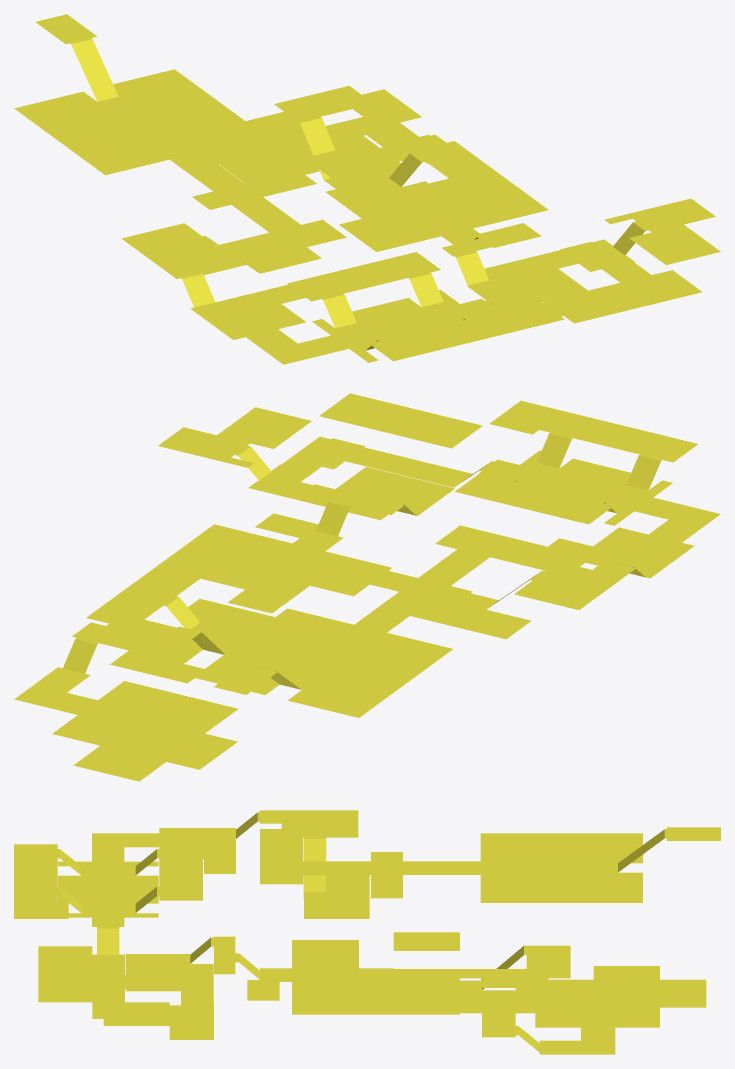
Rendered from 0903_npc_route.fbx.
3 renders of one model, top to bottom at view 1: azimuth 30°, elevation 25°; view 2: azimuth 150°, elevation 25°; view 3: azimuth 270°, elevation 25°, orthographic. The views are drawn at different scales.
Visible parts, largest first — view 1: npc_route; view 2: npc_route; view 3: npc_route.
Boxes of the visible parts, x1,y1,x2,y2 form: npc_route: [14, 14, 720, 364]; npc_route: [14, 393, 720, 781]; npc_route: [14, 810, 720, 1054].
Bounding box in the file's own units: 67866 × 15524 × 95662.
